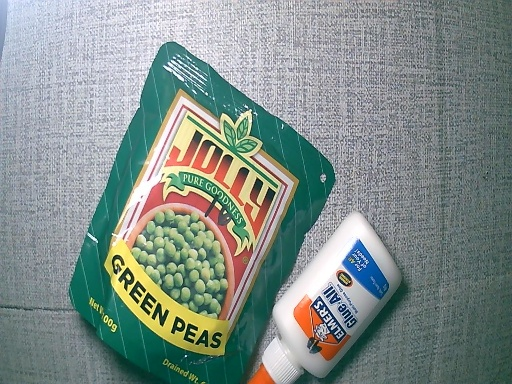plastic: (70, 47, 329, 384)
trash: (250, 209, 416, 384)
